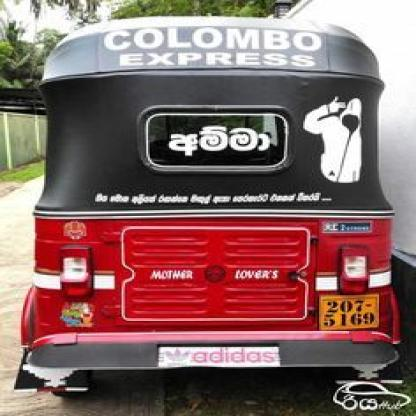number plate: (320, 294, 379, 330)
three wheeler back: (12, 15, 404, 384)
